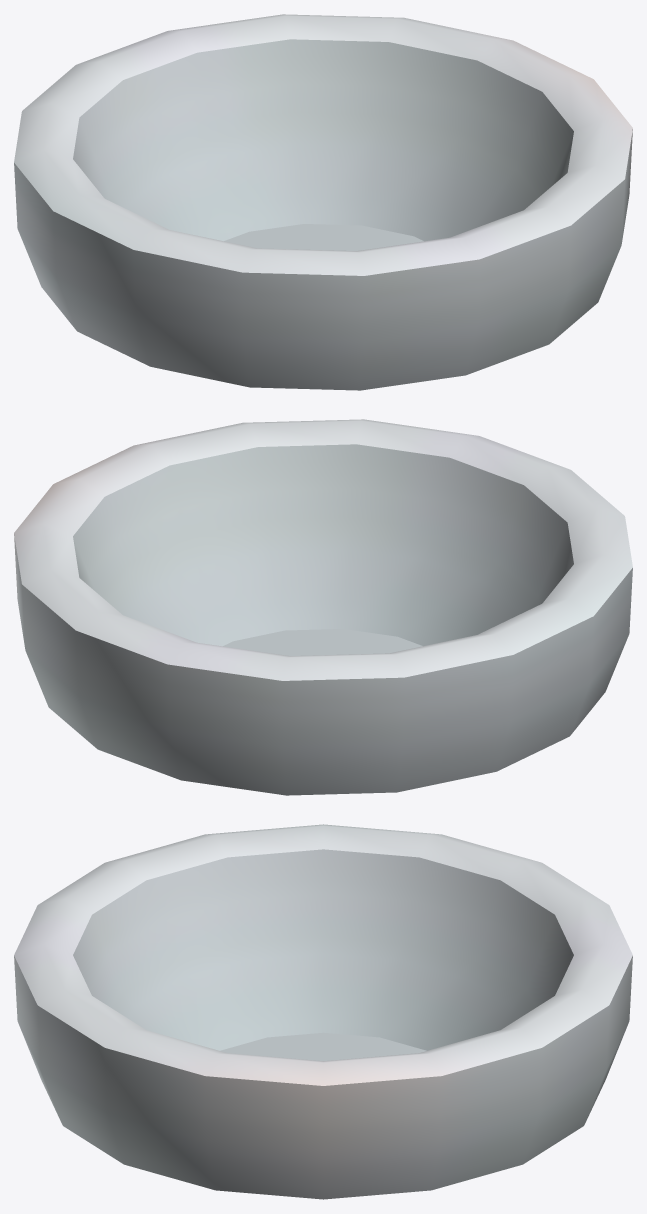
File: kkr.bowl.glb
3 renders of one model, top to bottom at view 1: azimuth 30°, elevation 25°; view 2: azimuth 150°, elevation 25°; view 3: azimuth 270°, elevation 25°, orthographic.
Parts seen in each view (by area): view 1: bowl; view 2: bowl; view 3: bowl.
Boxes of the visible parts, left/top/right/bottom form: bowl: left=14, top=14, right=632, bottom=390; bowl: left=14, top=419, right=632, bottom=795; bowl: left=14, top=824, right=632, bottom=1199.
Size of the model in its own units: 0.2619 by 0.0827 by 0.2619.
Materials: 1 (1 with a texture image).
